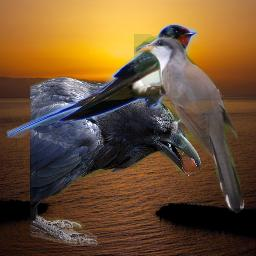Crow: (30, 76, 202, 246)
Cuckoo: (134, 34, 248, 215)
Swallow: (5, 24, 198, 138)
